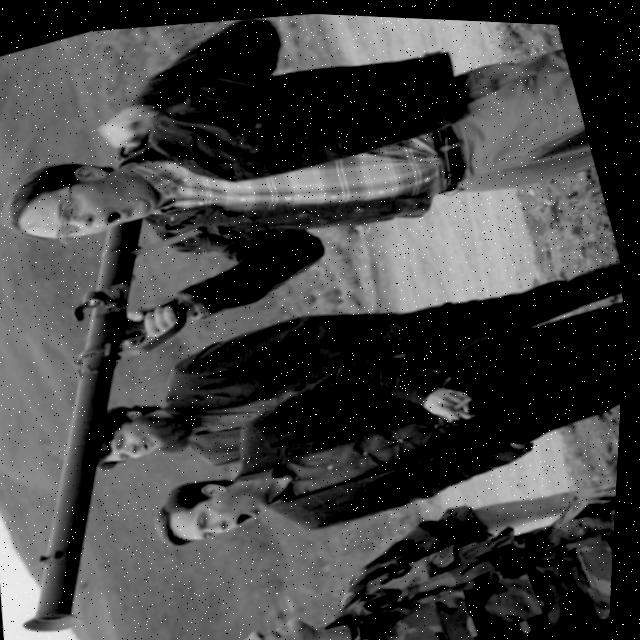rocket: (0, 198, 268, 640)
